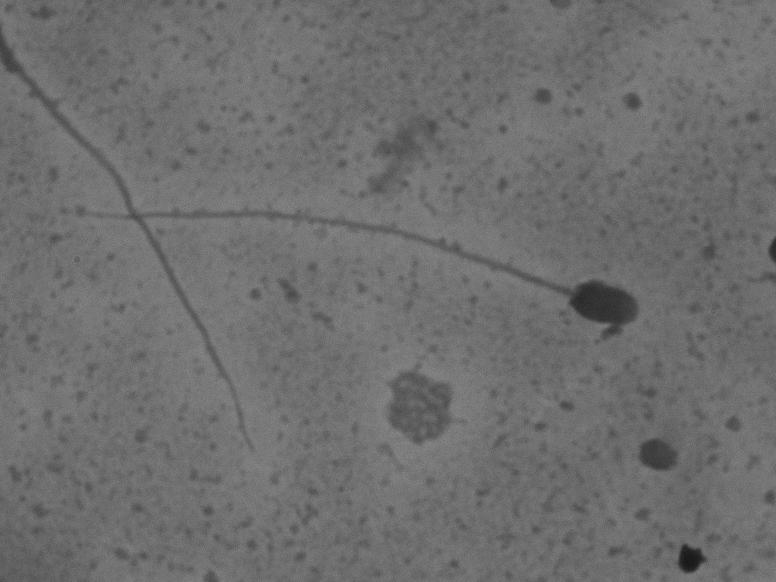Abnormal: (62, 182, 652, 346)
